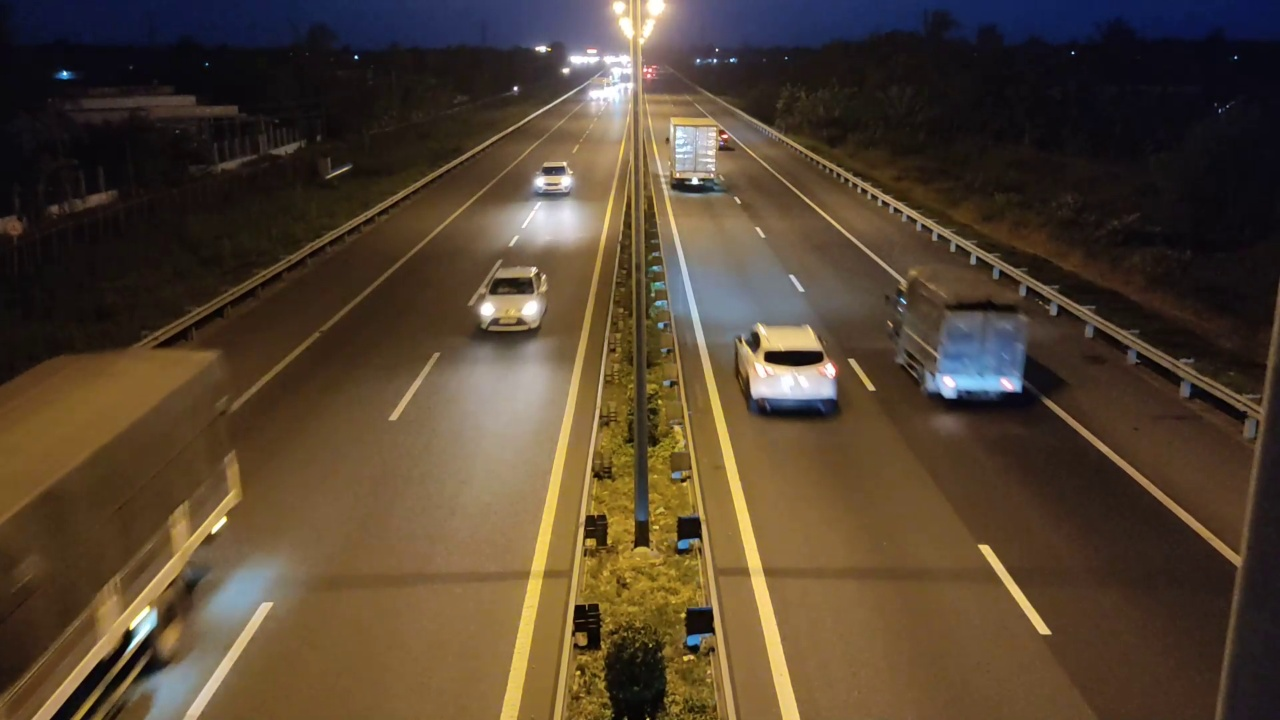car: (733, 322, 841, 417), (473, 263, 549, 333), (533, 162, 575, 196)
truck: (885, 263, 1031, 403), (668, 117, 721, 193)
